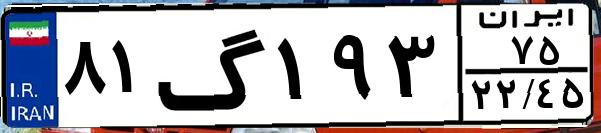1: (270, 28, 330, 110), (110, 28, 156, 98)
2: (470, 70, 495, 125), (495, 70, 520, 125)
3: (385, 28, 445, 110)
4: (535, 70, 560, 125)
5: (560, 70, 590, 125), (537, 27, 568, 80)
7: (508, 27, 537, 80)
8: (57, 26, 110, 100)
9: (330, 28, 385, 110)
گ: (156, 12, 270, 120)
